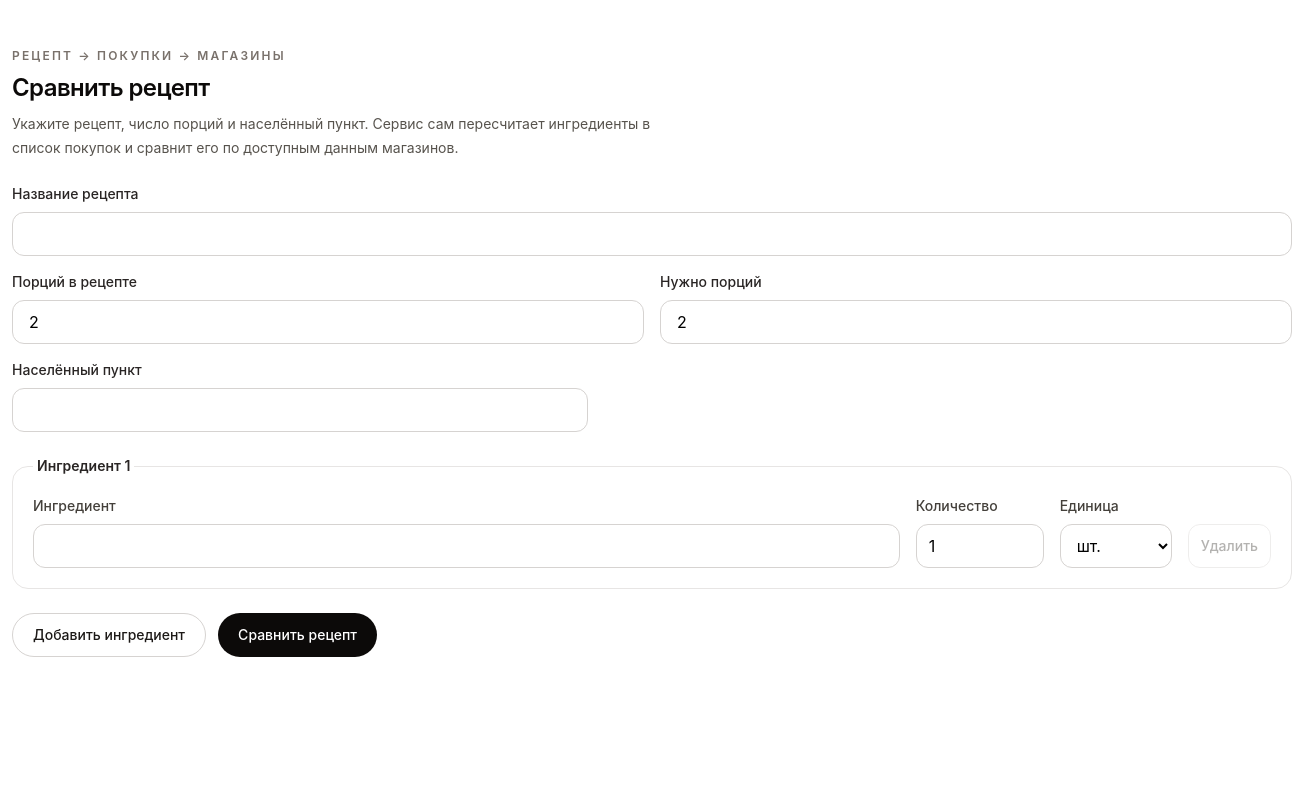
Test case: Recipe comparison form › shows backend field errors without exposing transport metadata
Type "Блины" into the field labelled "Название рецепта" at (652, 234), box [12,212,1292,256]
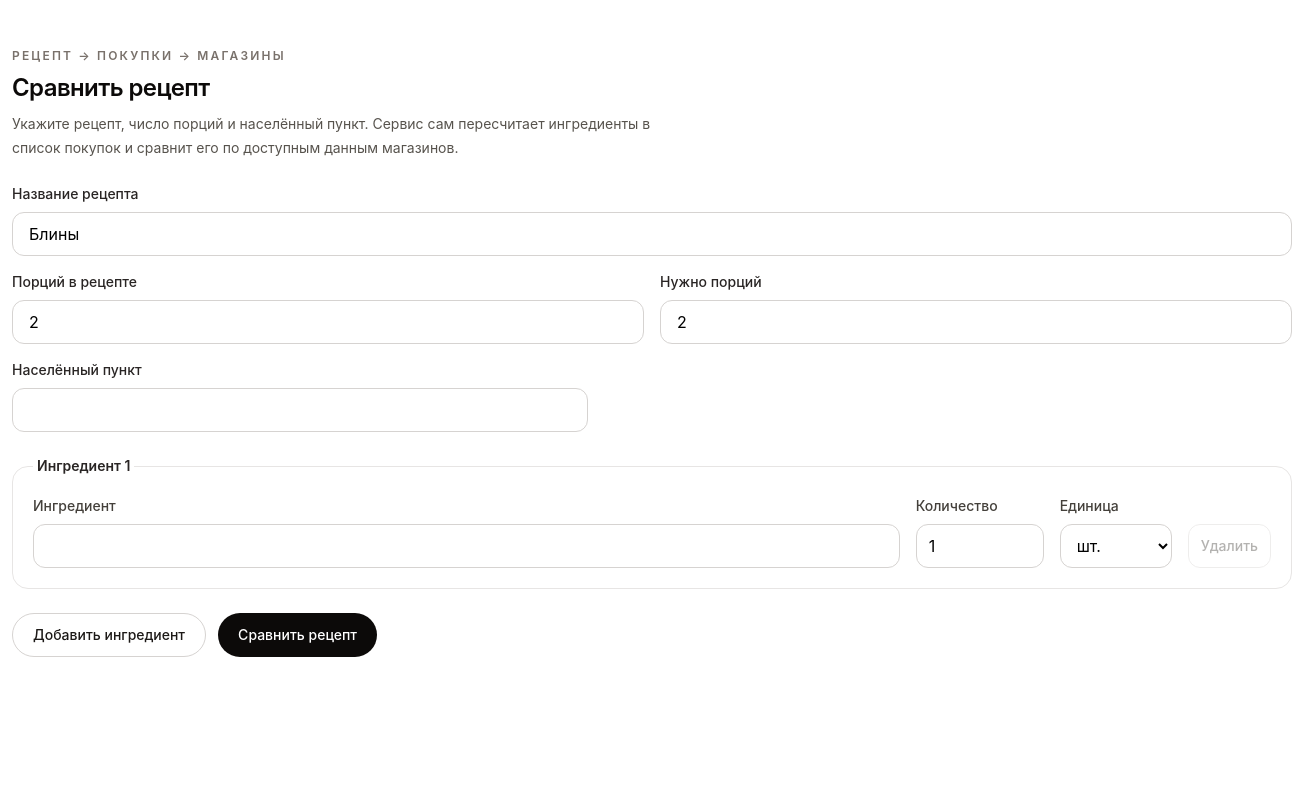
Type "Москва" into the field labelled "Населённый пункт" at (300, 410), box [12,388,588,432]
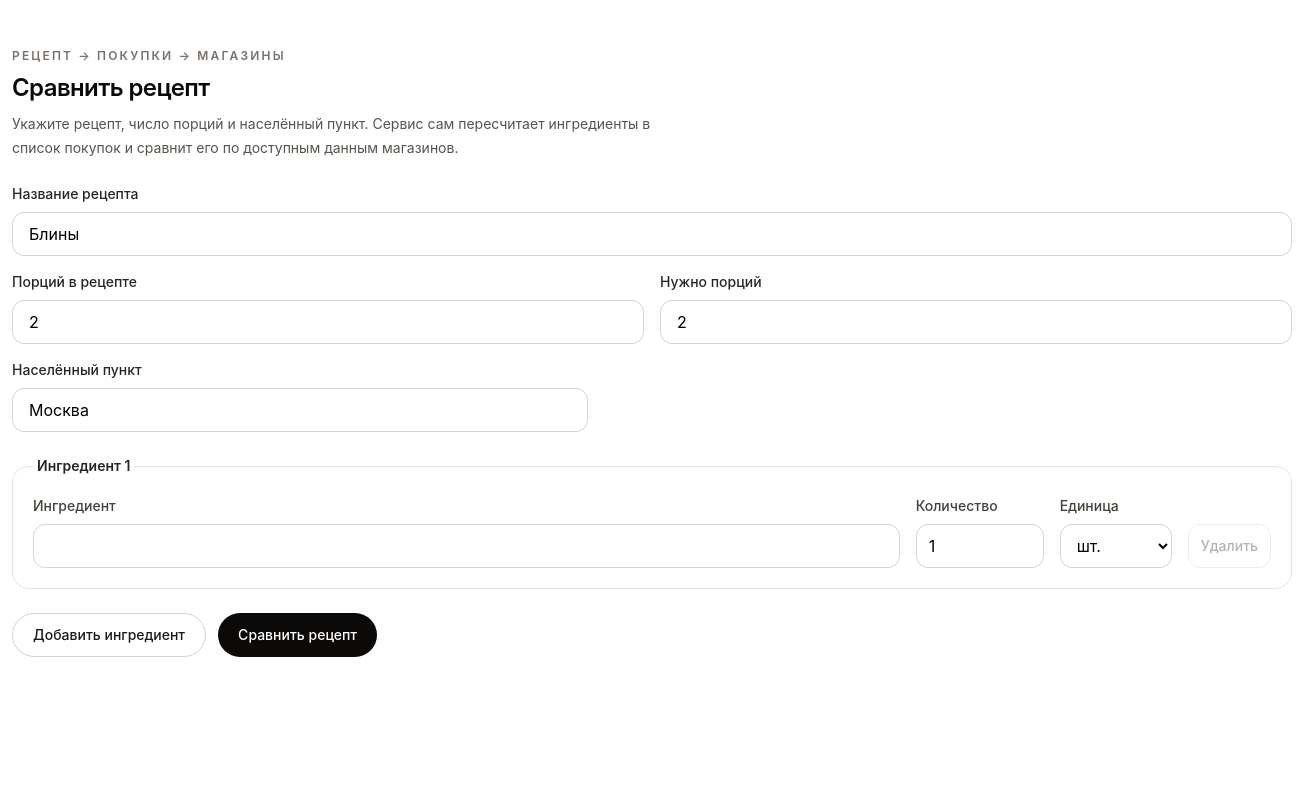
Type "Молоко" into the field labelled "Ингредиент" at (466, 546), box [33,524,900,568]
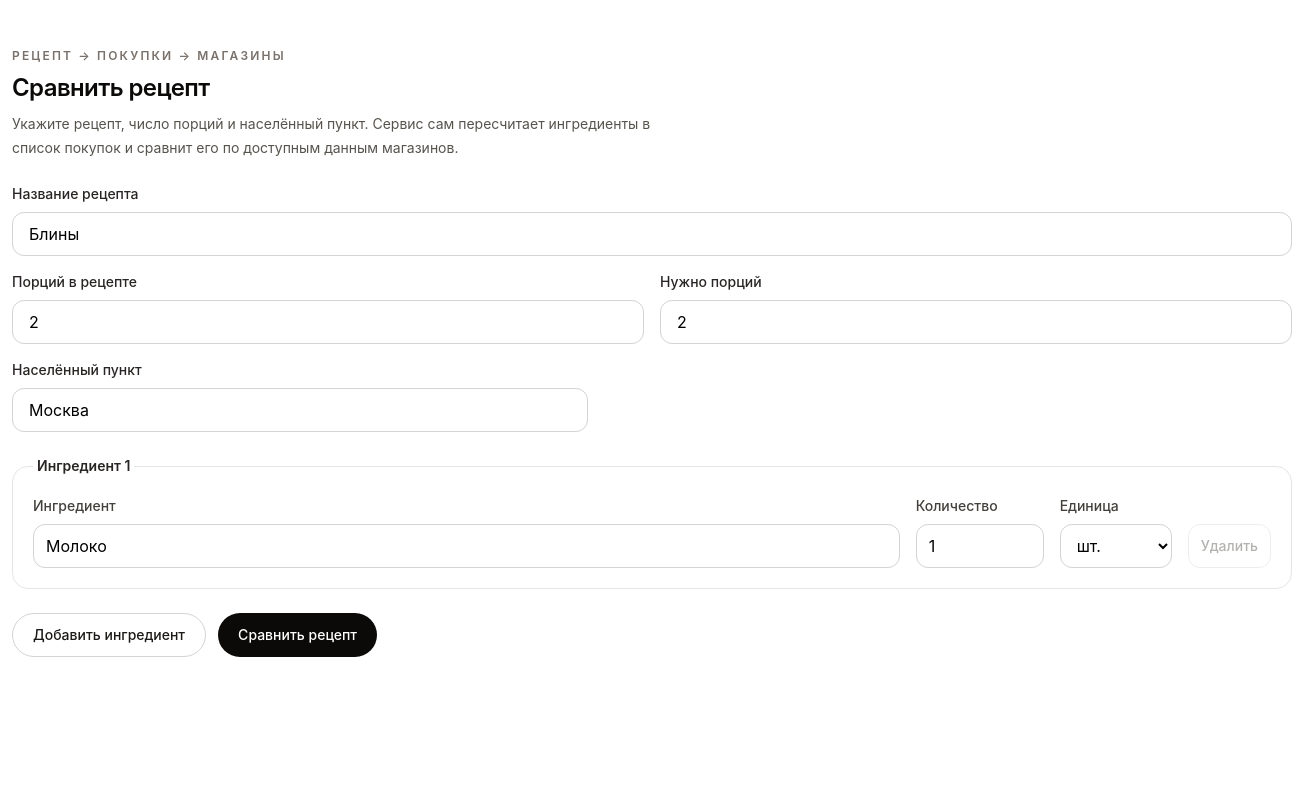
Click the button "Сравнить рецепт" at (298, 635), box [218,613,377,657]
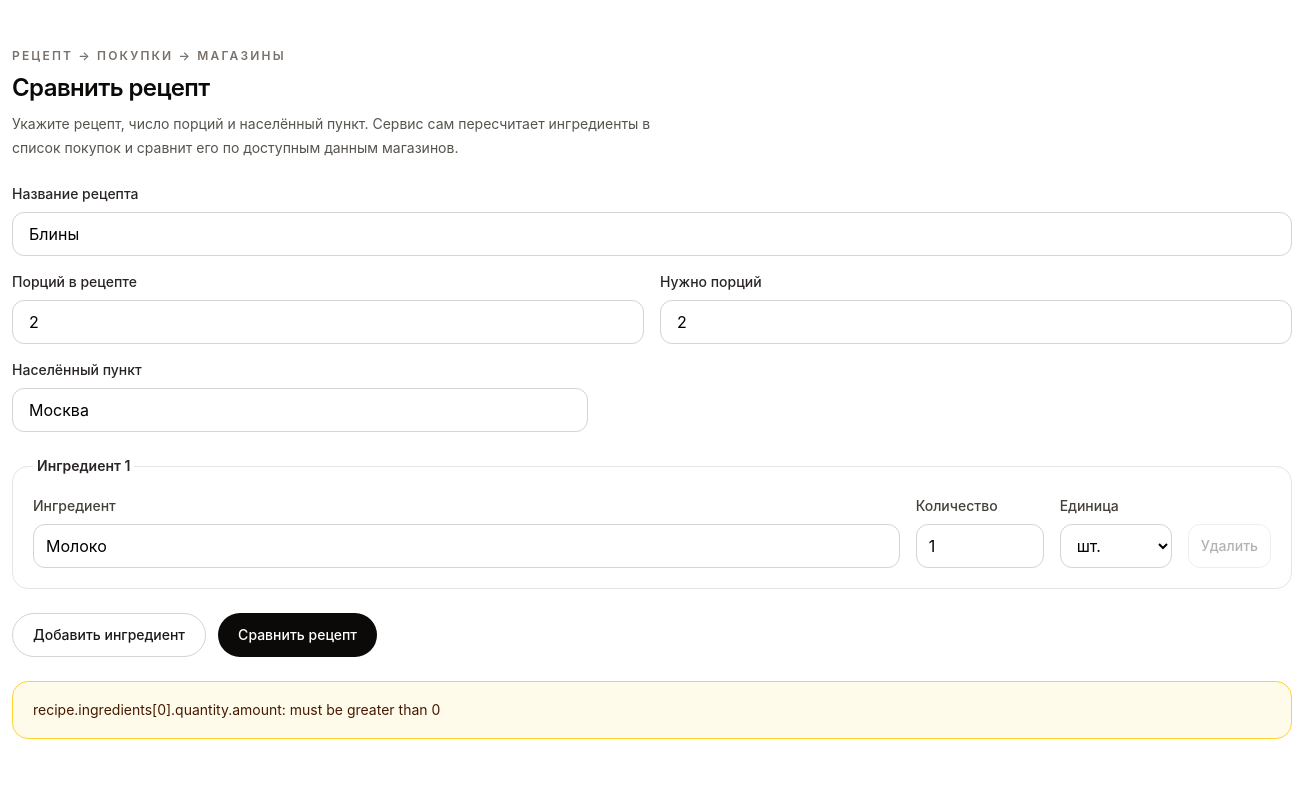
Result: the message "recipe.ingredients[0].quantity.amount: must be greater than 0" is shown at [12,681,1292,739]
Result: the message shows "recipe.ingredients[0].quantity.amount" at [33,701,440,718]
